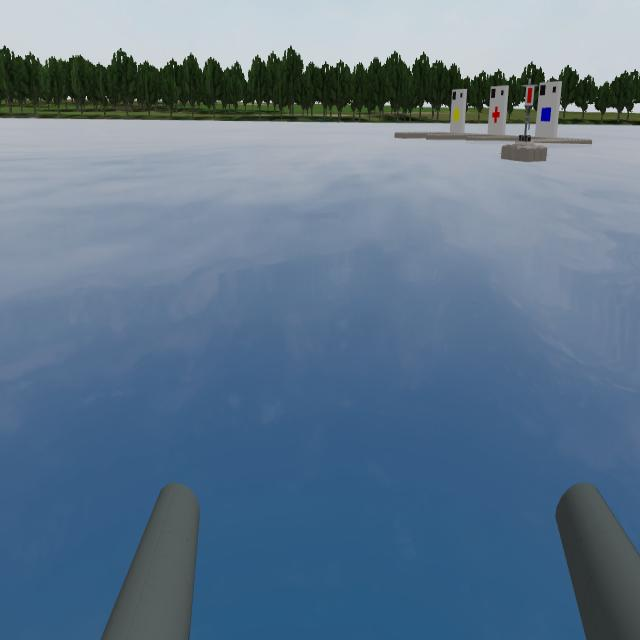red_pole: (519, 76, 541, 115)
